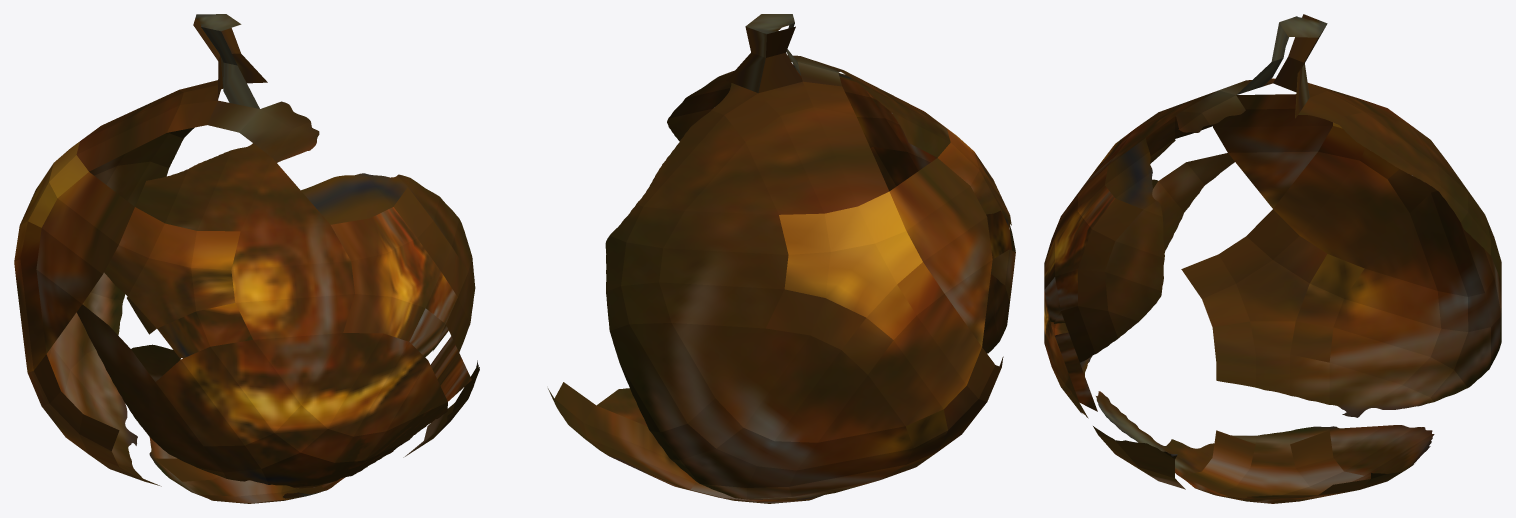
Rendered from PUMP2.fbx.
The picture shows the model from 3 angles, left to right: view 1: azimuth 30°, elevation 25°; view 2: azimuth 150°, elevation 25°; view 3: azimuth 270°, elevation 25°; orthographic projection. The views are drawn at different scales.
Parts seen in each view (by area): view 1: Icosphere.001; view 2: Icosphere.001; view 3: Icosphere.001.
Part boxes in pixels (x1,y1,x2,y2): Icosphere.001: [14, 14, 479, 503]; Icosphere.001: [548, 14, 1015, 503]; Icosphere.001: [1044, 14, 1501, 503].
Size of the model in its own units: 30.17 by 31.95 by 29.64.
Materials: 1 (1 with a texture image).
